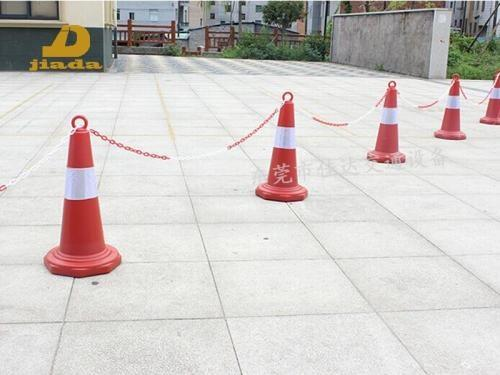cone_barrel: (40, 118, 123, 275), (255, 93, 309, 202), (364, 81, 406, 163), (426, 72, 470, 139), (477, 66, 499, 124)
